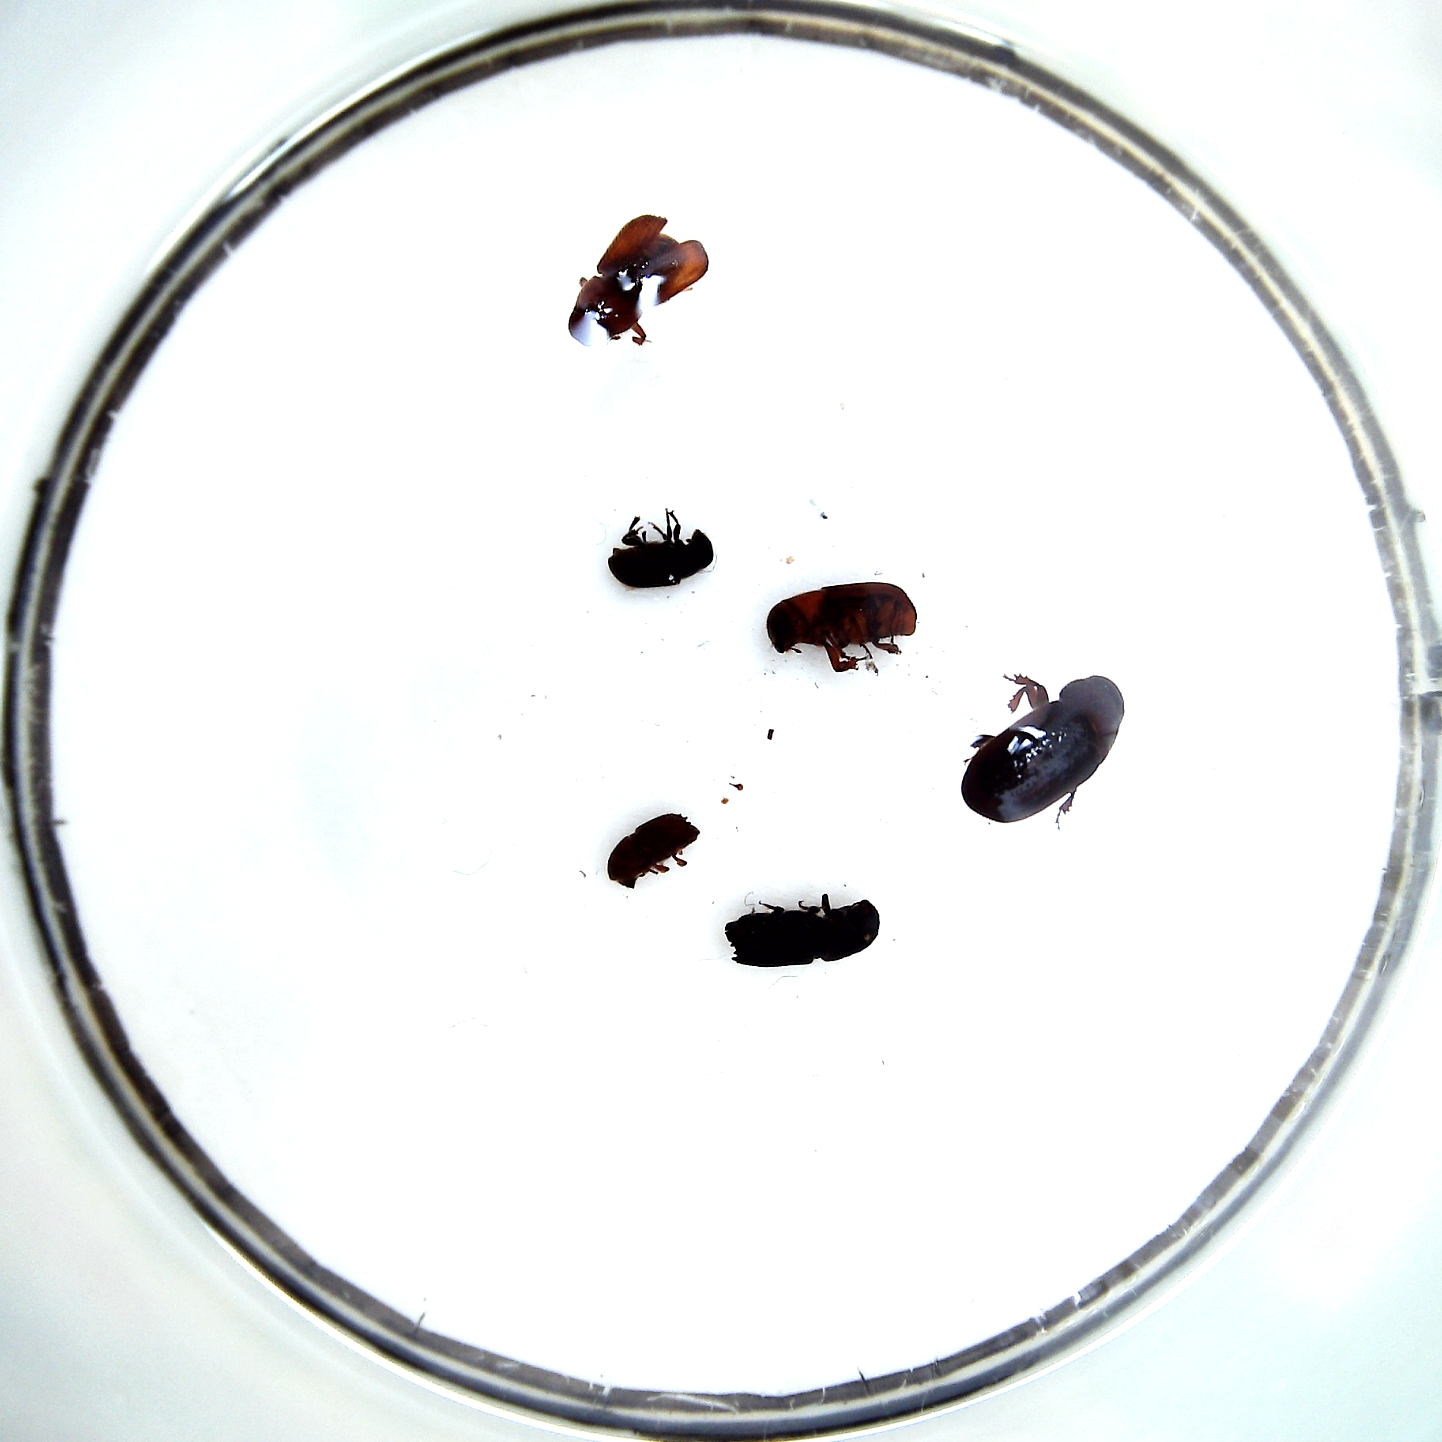Boerner: (724, 901, 879, 968)
Leconte: (960, 676, 1125, 823), (568, 214, 710, 349), (767, 581, 916, 666)
armandi: (607, 527, 714, 588)
linnaeus: (607, 813, 699, 890)
